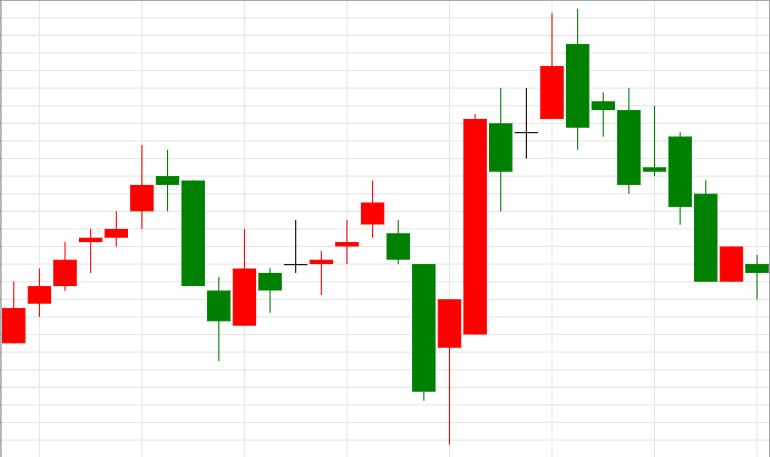bearish_engulfing_fall: (439, 9, 589, 444)
evening_star_fall: (1, 146, 205, 344)
hammer_rise: (361, 180, 461, 445)
shooting_star_fall: (2, 146, 154, 344)
